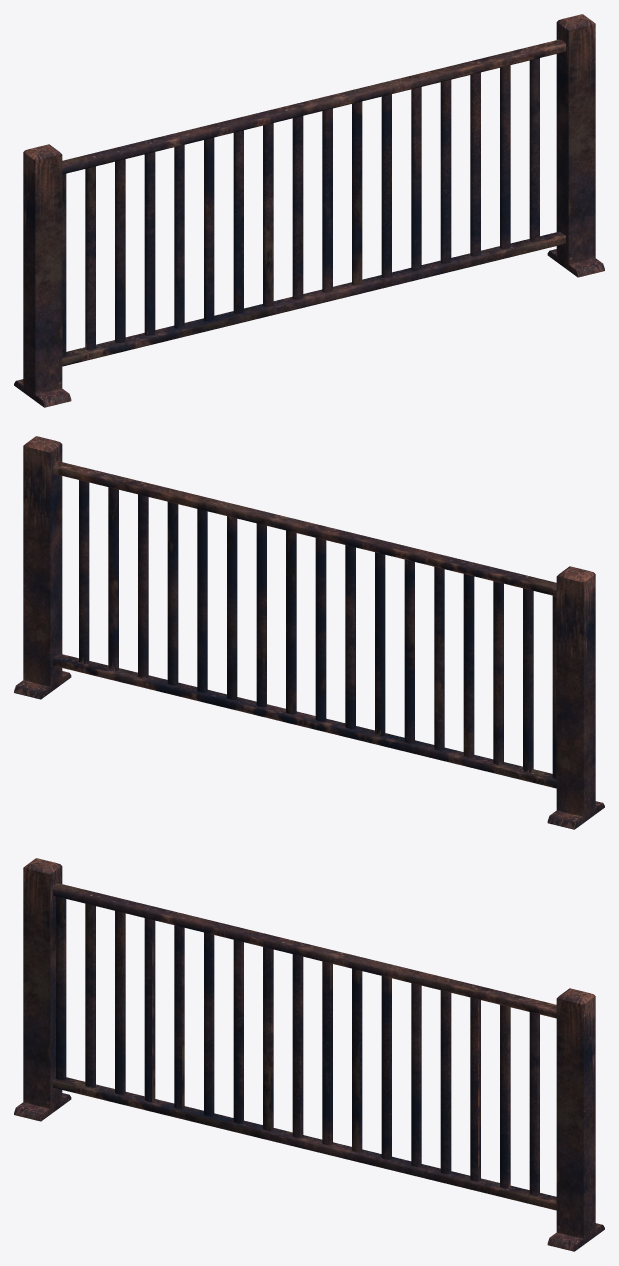
File: Railing.fbx
The picture shows the model from 3 angles, top to bottom: view 1: azimuth 30°, elevation 25°; view 2: azimuth 150°, elevation 25°; view 3: azimuth 330°, elevation 25°; orthographic projection.
Visible parts, largest first — view 1: Railing; view 2: Railing; view 3: Railing.
Boxes of the visible parts, x1=… form: Railing: x1=14, y1=14, x2=604, y2=407; Railing: x1=14, y1=436, x2=604, y2=829; Railing: x1=14, y1=858, x2=604, y2=1251.
Bounding box in the file's own units: 371 × 154 × 34.88.
